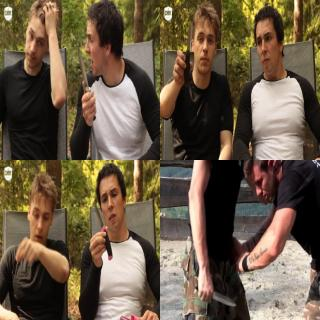knife: (74, 40, 98, 120), (92, 200, 114, 262), (194, 280, 238, 310), (181, 18, 194, 76)
